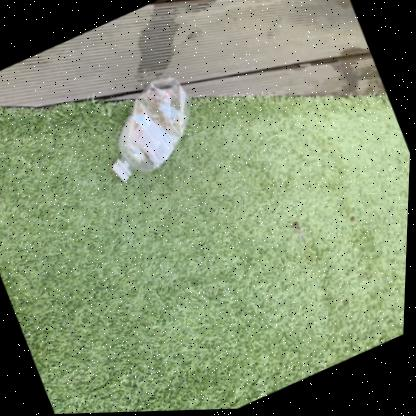Plastic: (113, 76, 190, 181)
